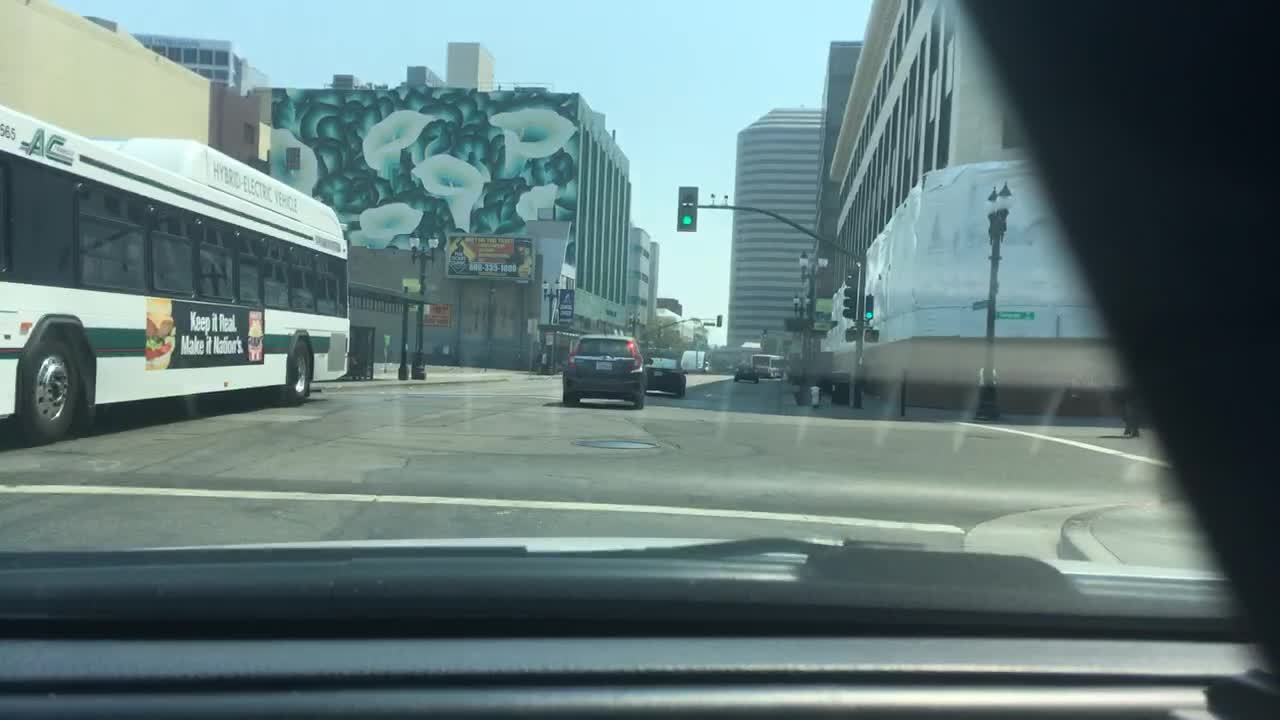bus: (751, 352, 785, 379)
car: (2, 99, 348, 445), (561, 331, 648, 408), (645, 353, 687, 399), (733, 361, 761, 385), (700, 361, 713, 372)
person: (1115, 363, 1144, 437)
traffic light: (678, 183, 697, 231), (864, 292, 876, 319), (716, 313, 723, 328)
traffic sign: (841, 263, 858, 314), (996, 309, 1036, 321), (844, 329, 880, 342), (969, 297, 989, 310), (526, 315, 539, 335), (702, 319, 716, 326)
